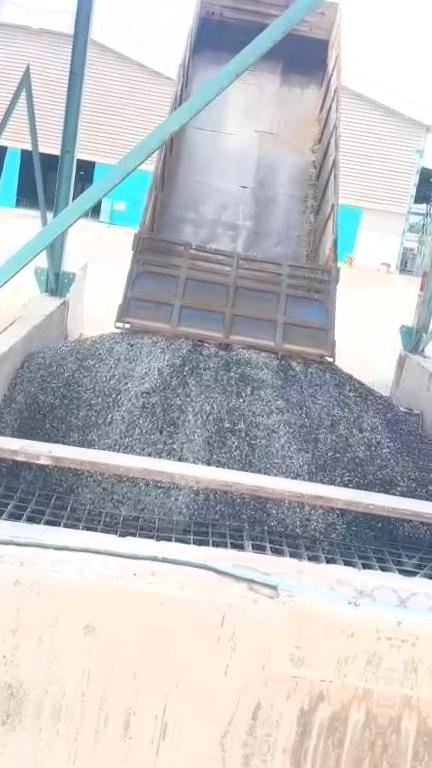gravel: (0, 333, 429, 498), (0, 460, 415, 542)
